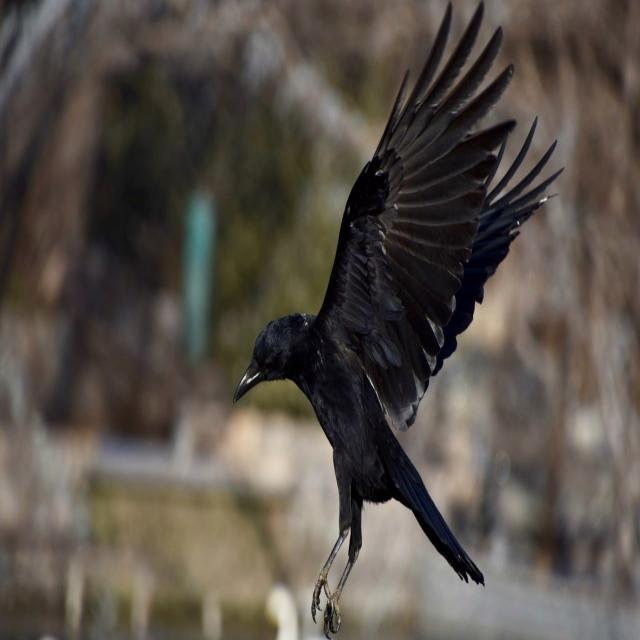crow: (234, 2, 562, 636)
